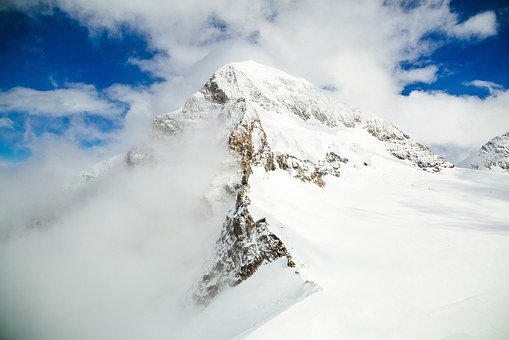mountain: (24, 61, 500, 340)
sky: (4, 4, 501, 142)
